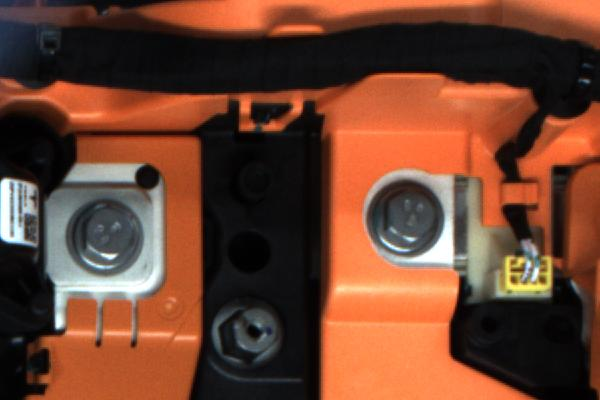nut_b: (357, 175, 449, 262), (61, 196, 150, 276)
